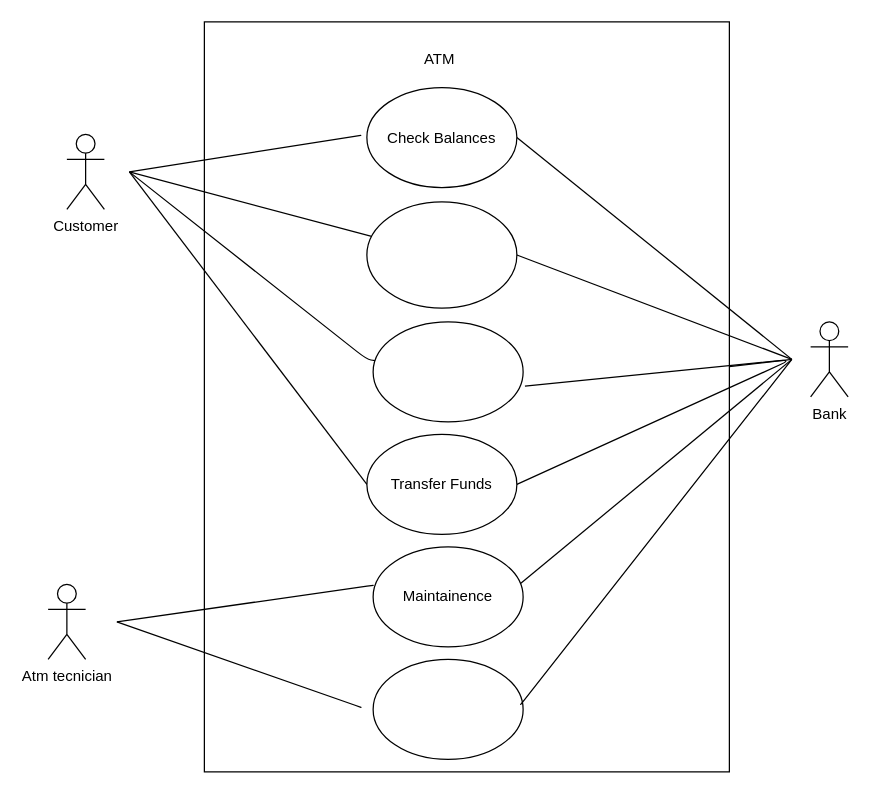
This 870x804 diagram has some shape labels left out. Here are the shapes that lost their labels. From the top down, the centre of each, then its label:
At (x=441, y=254): "Deposite Funds".
At (x=447, y=371): "Withdrow Cash".
At (x=447, y=708): "Repair".
